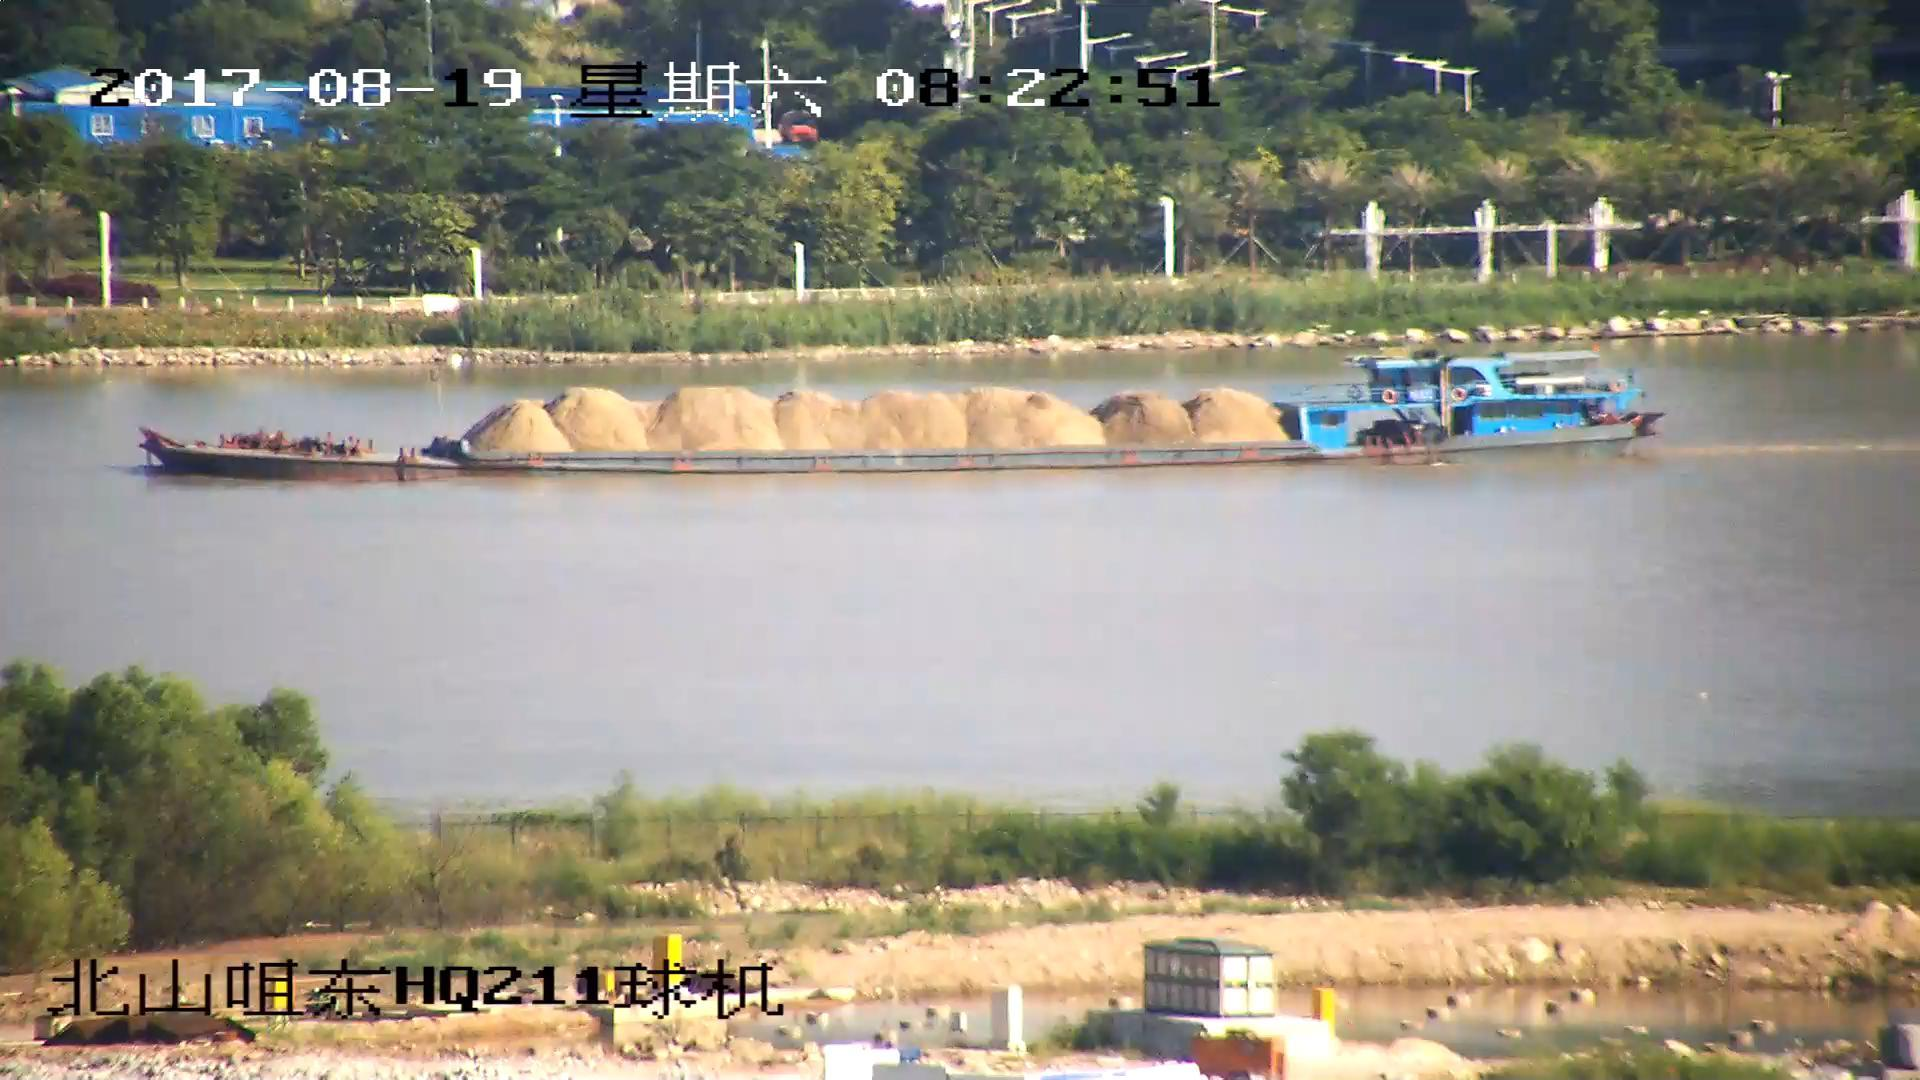Ship: (137, 345, 1667, 477)
